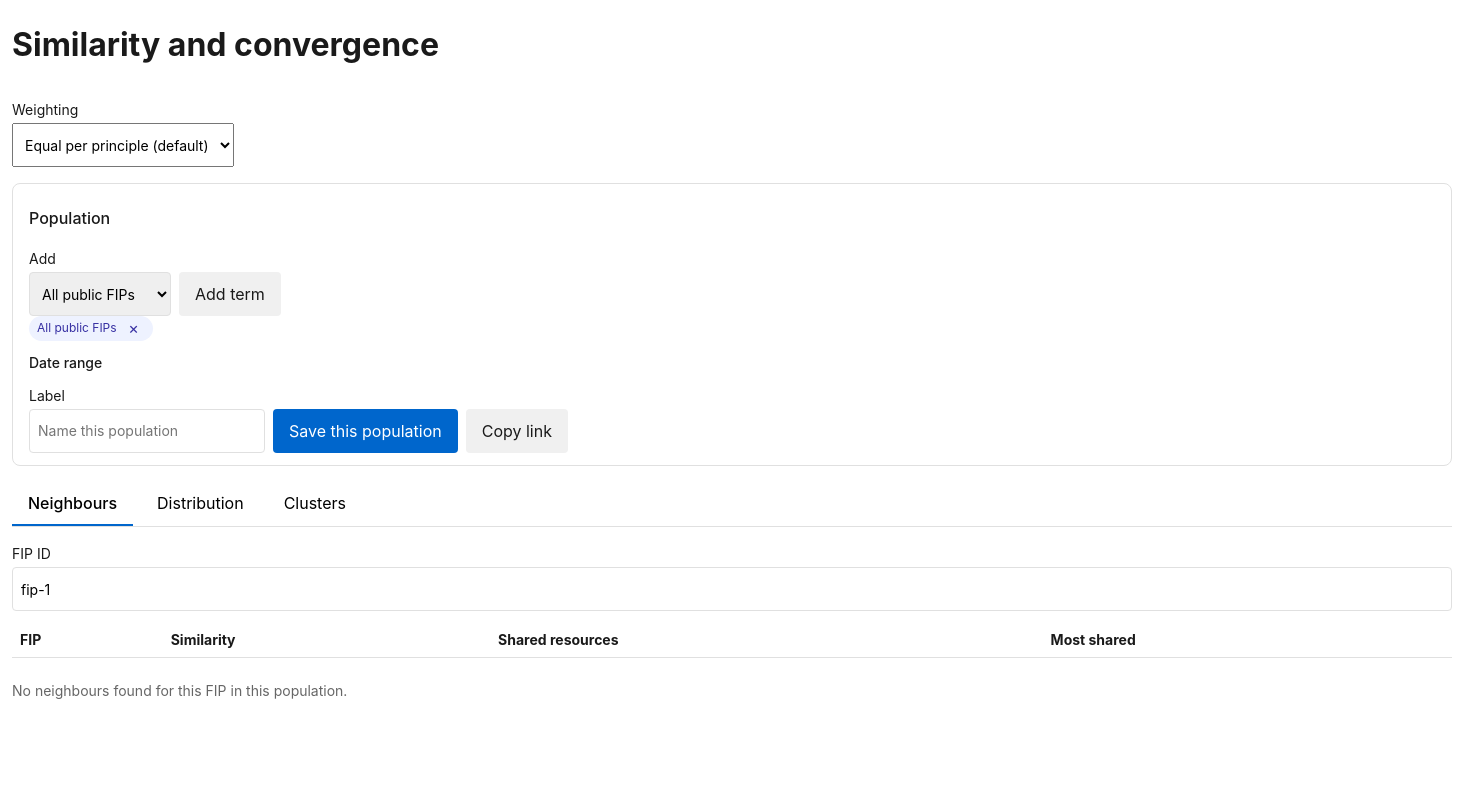
Test case: DashboardSimilarity.vue (spec 13 §3.3/§4/§6.2) › shows a one-line explanation instead of a scatter when scatterAvailable is false (spec 13 AC-2)
The width and height of the screenshot is (1464, 810).
Click the tab "Distribution" at [200, 504], box [141,482,260,526]
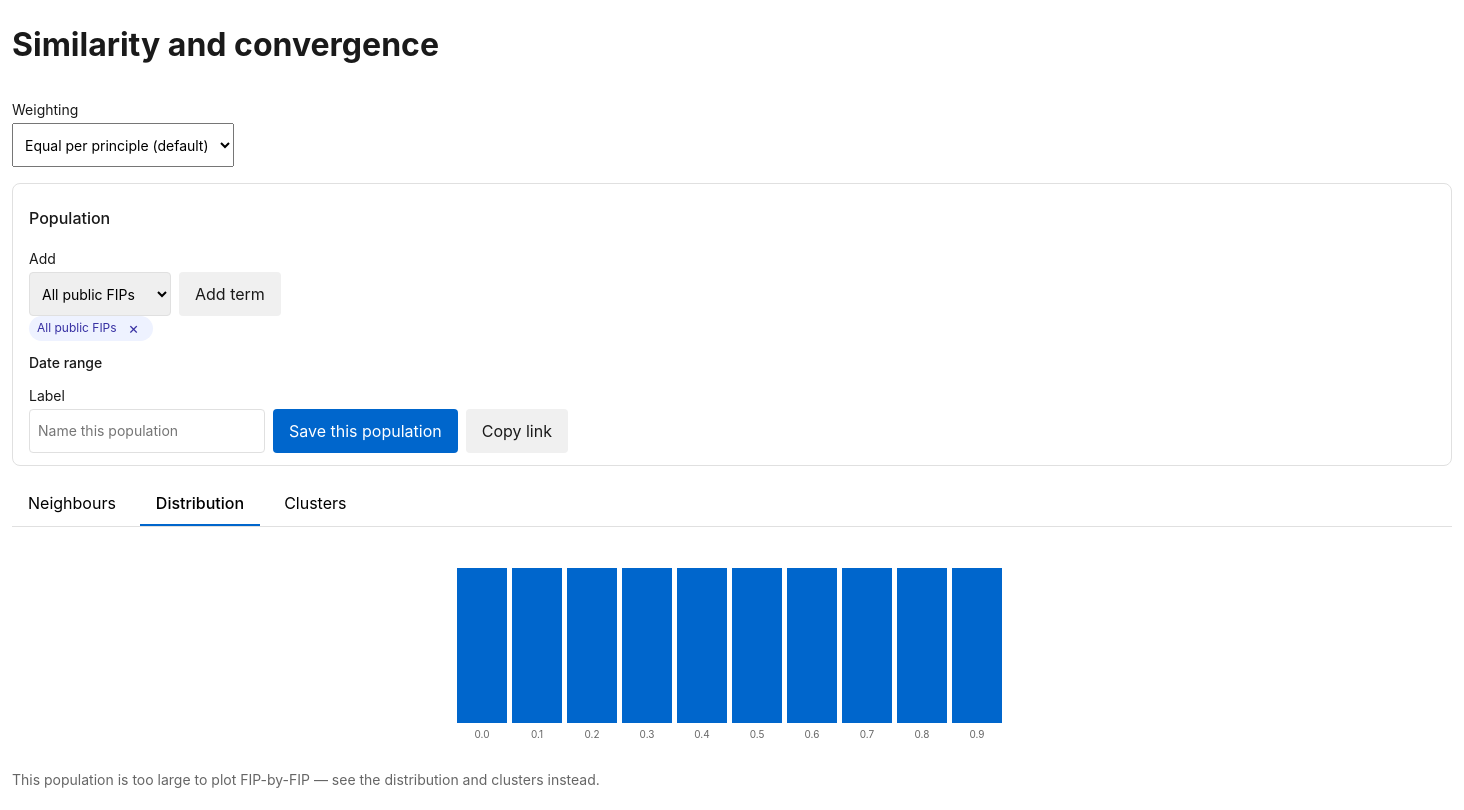
Result: the text "This population is too large to plot FIP-by-FIP — see the distribution and clusters instead." is shown at [12,771,600,788]
